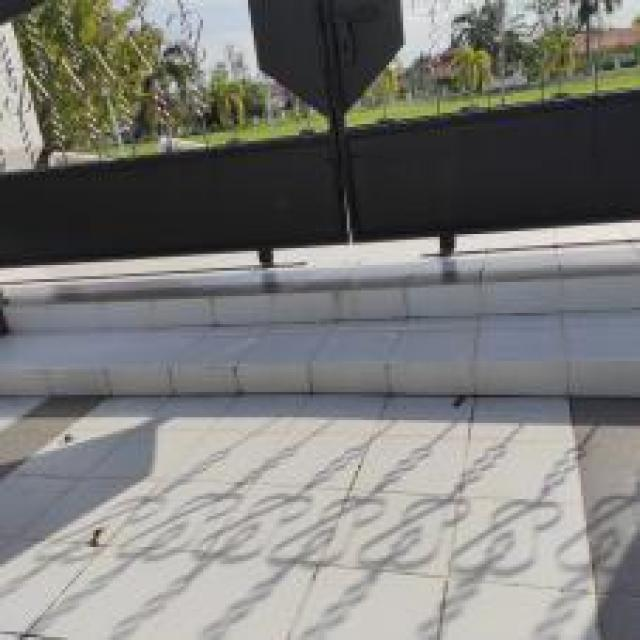upstair: (9, 277, 640, 398)
